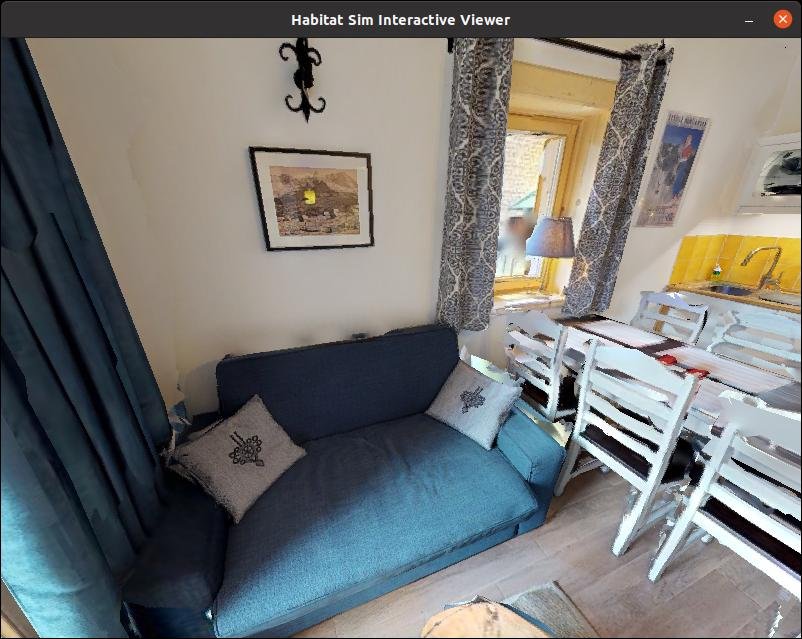chair: (659, 365, 802, 639), (551, 309, 702, 566), (483, 301, 606, 498)
sofa: (117, 329, 602, 608)
table: (503, 289, 802, 543)
